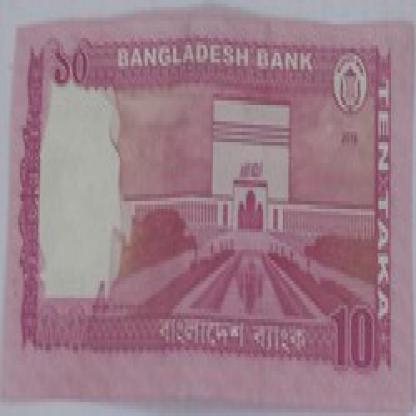Ten Taka: (50, 35, 105, 104)
one hundred taka: (329, 295, 384, 378)
